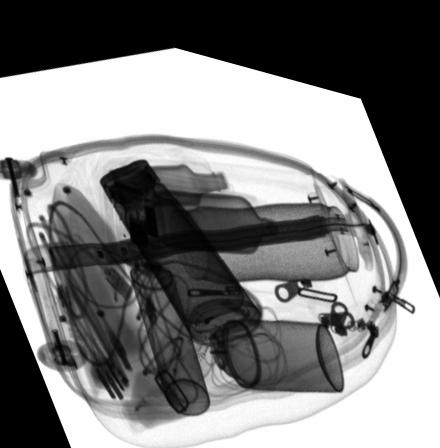Sprayer: (122, 231, 210, 405), (194, 304, 343, 375)
